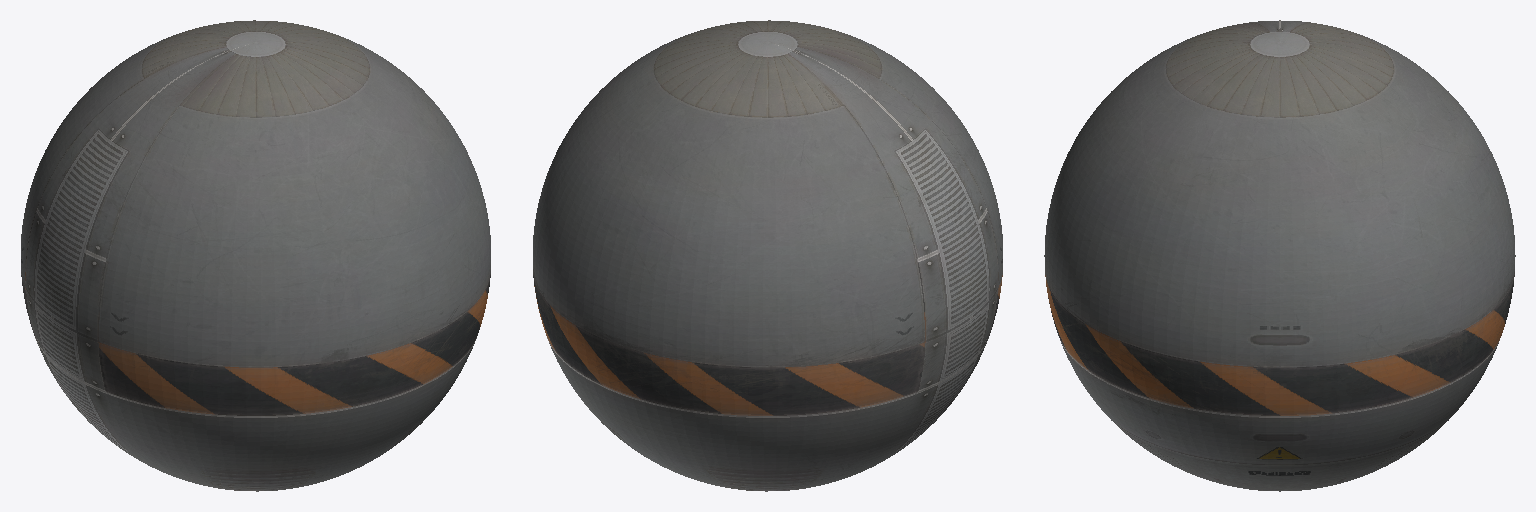
The picture shows the model from 3 angles: view 1: azimuth 30°, elevation 25°; view 2: azimuth 150°, elevation 25°; view 3: azimuth 270°, elevation 25°; orthographic projection.
Visible parts, largest first — view 1: Sphere; view 2: Sphere; view 3: Sphere.
Boxes of the visible parts, x1=… form: Sphere: x1=21, y1=20, x2=490, y2=491; Sphere: x1=533, y1=20, x2=1002, y2=491; Sphere: x1=1044, y1=20, x2=1515, y2=491.
Size of the model in its own units: 2 by 2 by 2.
1 materials, 1 textured.